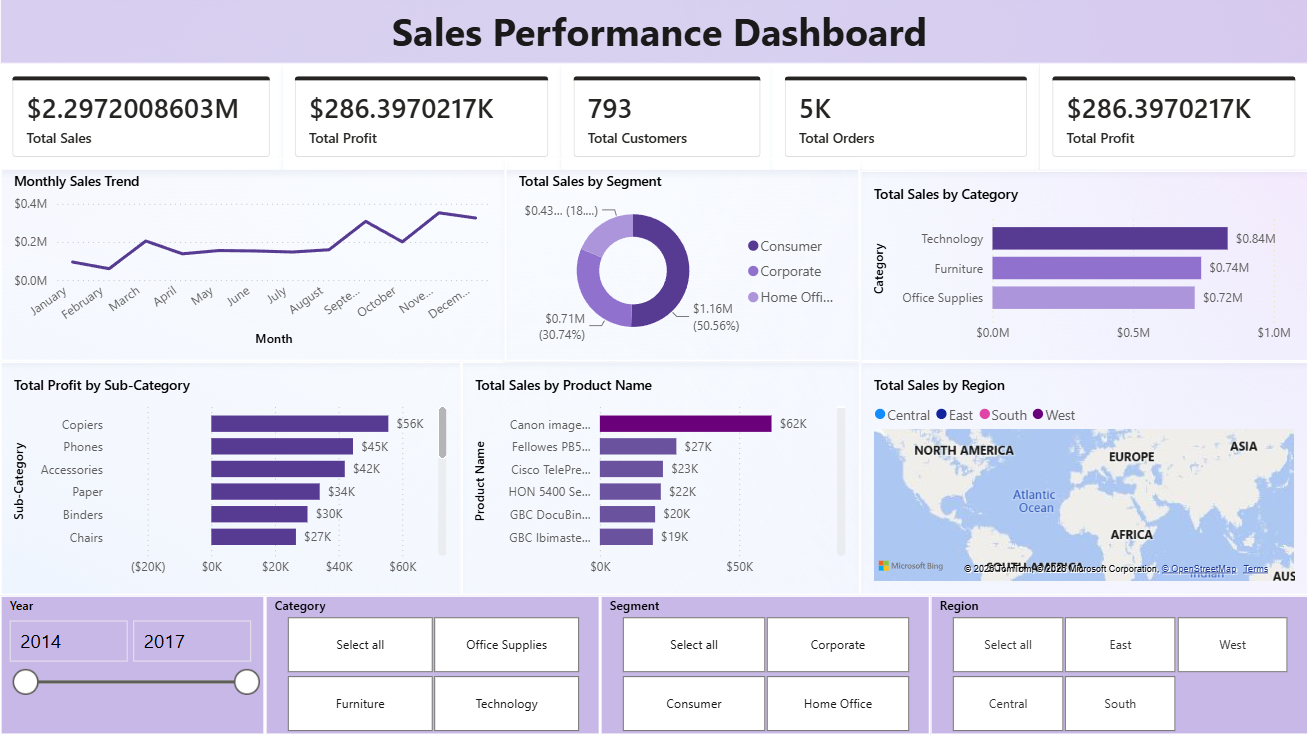

The dashboard page shown, as its layout file describes it:
{"tool":"powerbi","page":{"name":"Page 1","canvas":[1280,720],"ordinal":0},"visuals":[{"type":"textbox","box":[0,0,1280.2,63.2],"z":0},{"type":"cardVisual","fields":{"Data":["Measures (2).Total Sales"]},"box":[0,63.8,276.2,103.8],"z":1000},{"type":"cardVisual","fields":{"Data":["Measures (2).Total Profit"]},"box":[276.2,63.8,272.5,103.8],"z":2000},{"type":"cardVisual","fields":{"Data":["Measures (2).Total Customers"]},"box":[548.8,63.8,207.5,103.8],"z":3000},{"type":"cardVisual","fields":{"Data":["Measures (2).Total Orders"]},"box":[756.2,63.8,261.2,103.8],"z":4000},{"type":"cardVisual","fields":{"Data":["Measures (2).Total Profit"]},"box":[1017.5,63.8,262.5,103.8],"z":5000},{"type":"lineChart","title":"Monthly Sales Trend","fields":{"Category":["Date.Month"],"Y":["Measures (2).Total Sales"]},"box":[0,155.3,494,199.3],"z":6000},{"type":"clusteredBarChart","fields":{"Category":["orders.Category"],"Y":["Measures (2).Total Sales"]},"box":[841.3,167.5,439,187.1],"z":7000},{"type":"barChart","title":"Most Profitable Sub-Categories","fields":{"Category":["orders.Sub-Category"],"Y":["Measures (2).Total Profit"]},"box":[0,354.6,451.2,228.7],"z":8000},{"type":"filledMap","fields":{"Series":["orders.Region"]},"box":[841.3,354.6,439,228.7],"z":9000},{"type":"barChart","title":"Top 10 Products by Sales","fields":{"Category":["orders.Product Name"],"Y":["Measures (2).Total Sales"]},"box":[451.2,354.6,390.1,228.7],"z":10000},{"type":"donutChart","title":"Sales by Customer Segment","fields":{"Category":["orders.Segment"],"Y":["Measures (2).Total Sales"]},"box":[494,155.3,347.3,199.3],"z":11000},{"type":"slicer","fields":{"Values":["Date.Year"]},"box":[0,583.3,259.2,137],"z":12000},{"type":"slicer","fields":{"Values":["orders.Category"]},"box":[259.2,583.3,327.7,137],"z":13000},{"type":"slicer","fields":{"Values":["orders.Region"]},"box":[909.8,583.3,370.5,137],"z":14000},{"type":"slicer","fields":{"Values":["orders.Segment"]},"box":[587,583.3,322.8,137],"z":15000}]}

Visuals, with their boxes in screenshot pixels (x1, y1, x2, y2), scaled from the page's 1280x720 canvas onto the 1307x735 screenshot:
textbox: bbox=(0, 0, 1306, 65)
cardVisual - Measures (2).Total Sales: bbox=(0, 65, 282, 171)
cardVisual - Measures (2).Total Profit: bbox=(282, 65, 560, 171)
cardVisual - Measures (2).Total Customers: bbox=(560, 65, 772, 171)
cardVisual - Measures (2).Total Orders: bbox=(772, 65, 1039, 171)
cardVisual - Measures (2).Total Profit: bbox=(1039, 65, 1306, 171)
"Monthly Sales Trend" lineChart: bbox=(0, 159, 504, 362)
clusteredBarChart - orders.Category x Measures (2).Total Sales: bbox=(859, 171, 1306, 362)
"Most Profitable Sub-Categories" barChart: bbox=(0, 362, 461, 595)
filledMap - orders.Region: bbox=(859, 362, 1306, 595)
"Top 10 Products by Sales" barChart: bbox=(461, 362, 859, 595)
"Sales by Customer Segment" donutChart: bbox=(504, 159, 859, 362)
slicer - Date.Year: bbox=(0, 595, 265, 734)
slicer - orders.Category: bbox=(265, 595, 599, 734)
slicer - orders.Region: bbox=(929, 595, 1306, 734)
slicer - orders.Segment: bbox=(599, 595, 929, 734)
